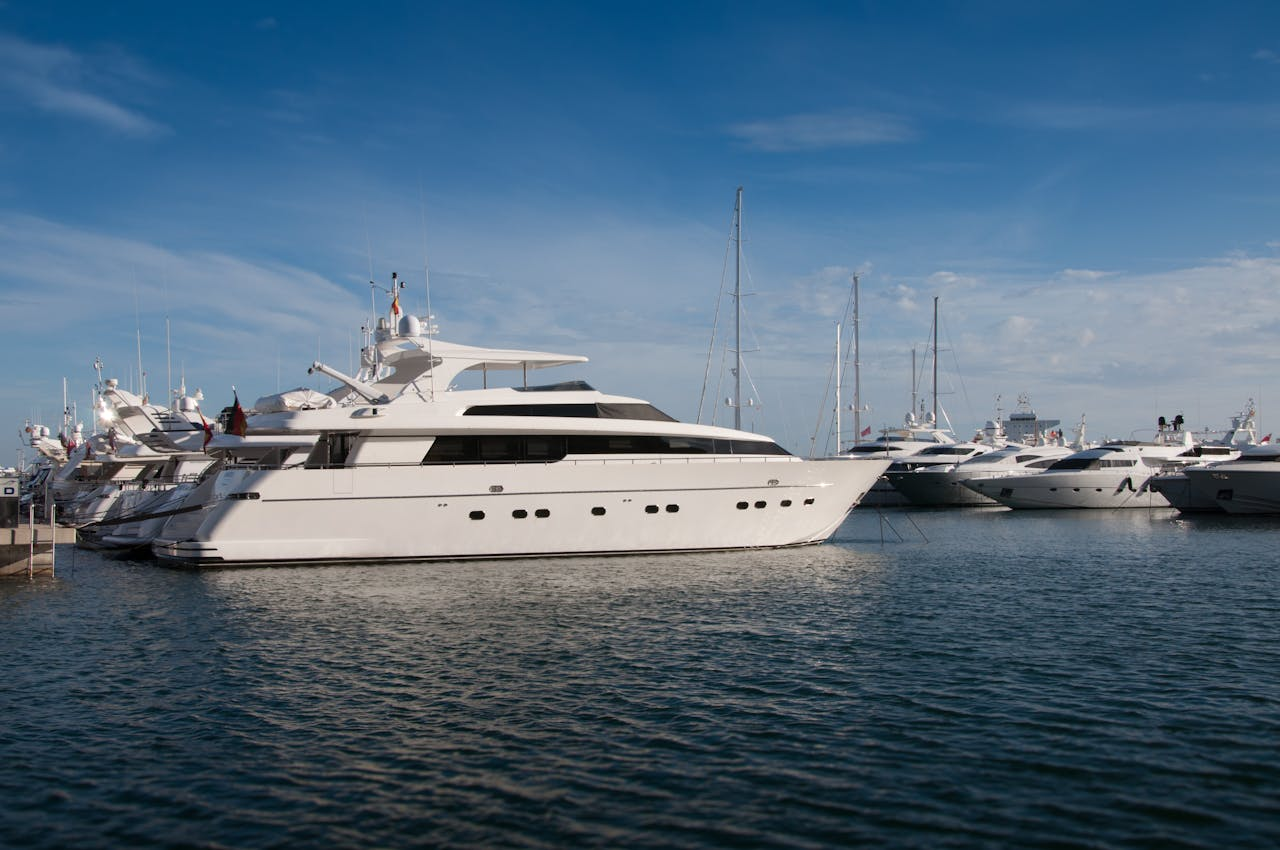boat: (167, 293, 895, 558), (971, 413, 1255, 523)
